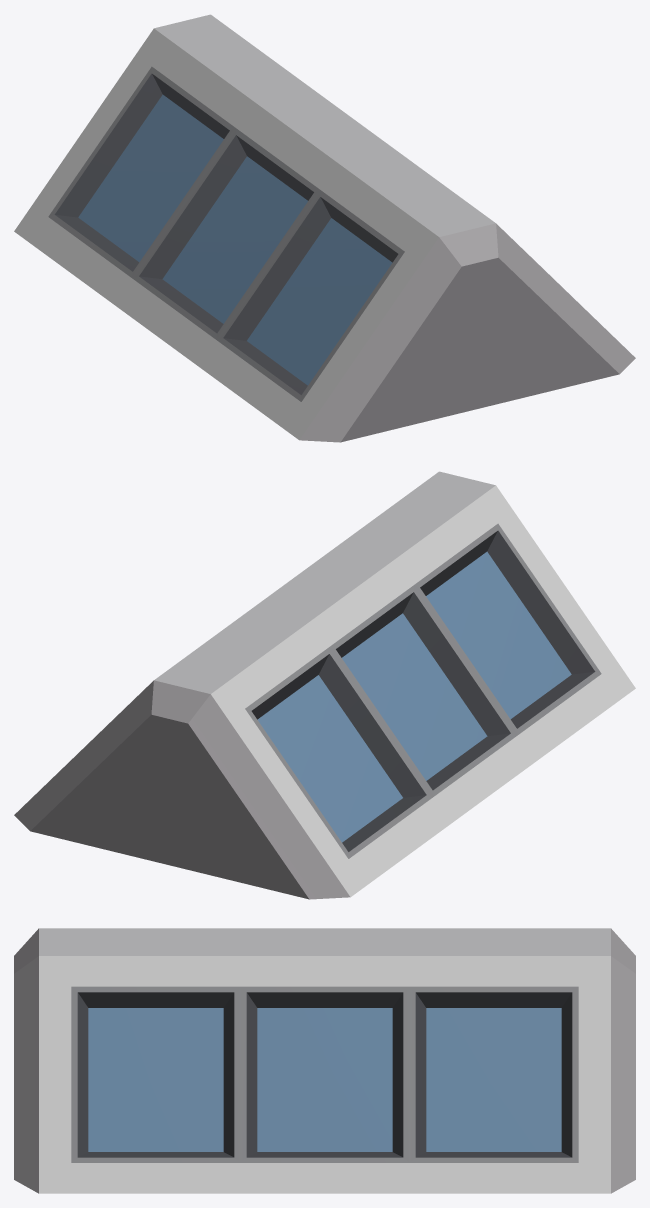
Rendered from roof_window.fbx.
3 views of the same model, one above another, from view 1: azimuth 30°, elevation 25°; view 2: azimuth 150°, elevation 25°; view 3: azimuth 270°, elevation 25° (orthographic).
Visible parts, largest first — view 1: roof_window; view 2: roof_window; view 3: roof_window.
Part boxes in pixels (<box>): roof_window: <box>14,14,635,442</box>; roof_window: <box>14,471,635,899</box>; roof_window: <box>14,928,635,1193</box>.
Size of the model in its own units: 81.45 by 39.08 by 130.
